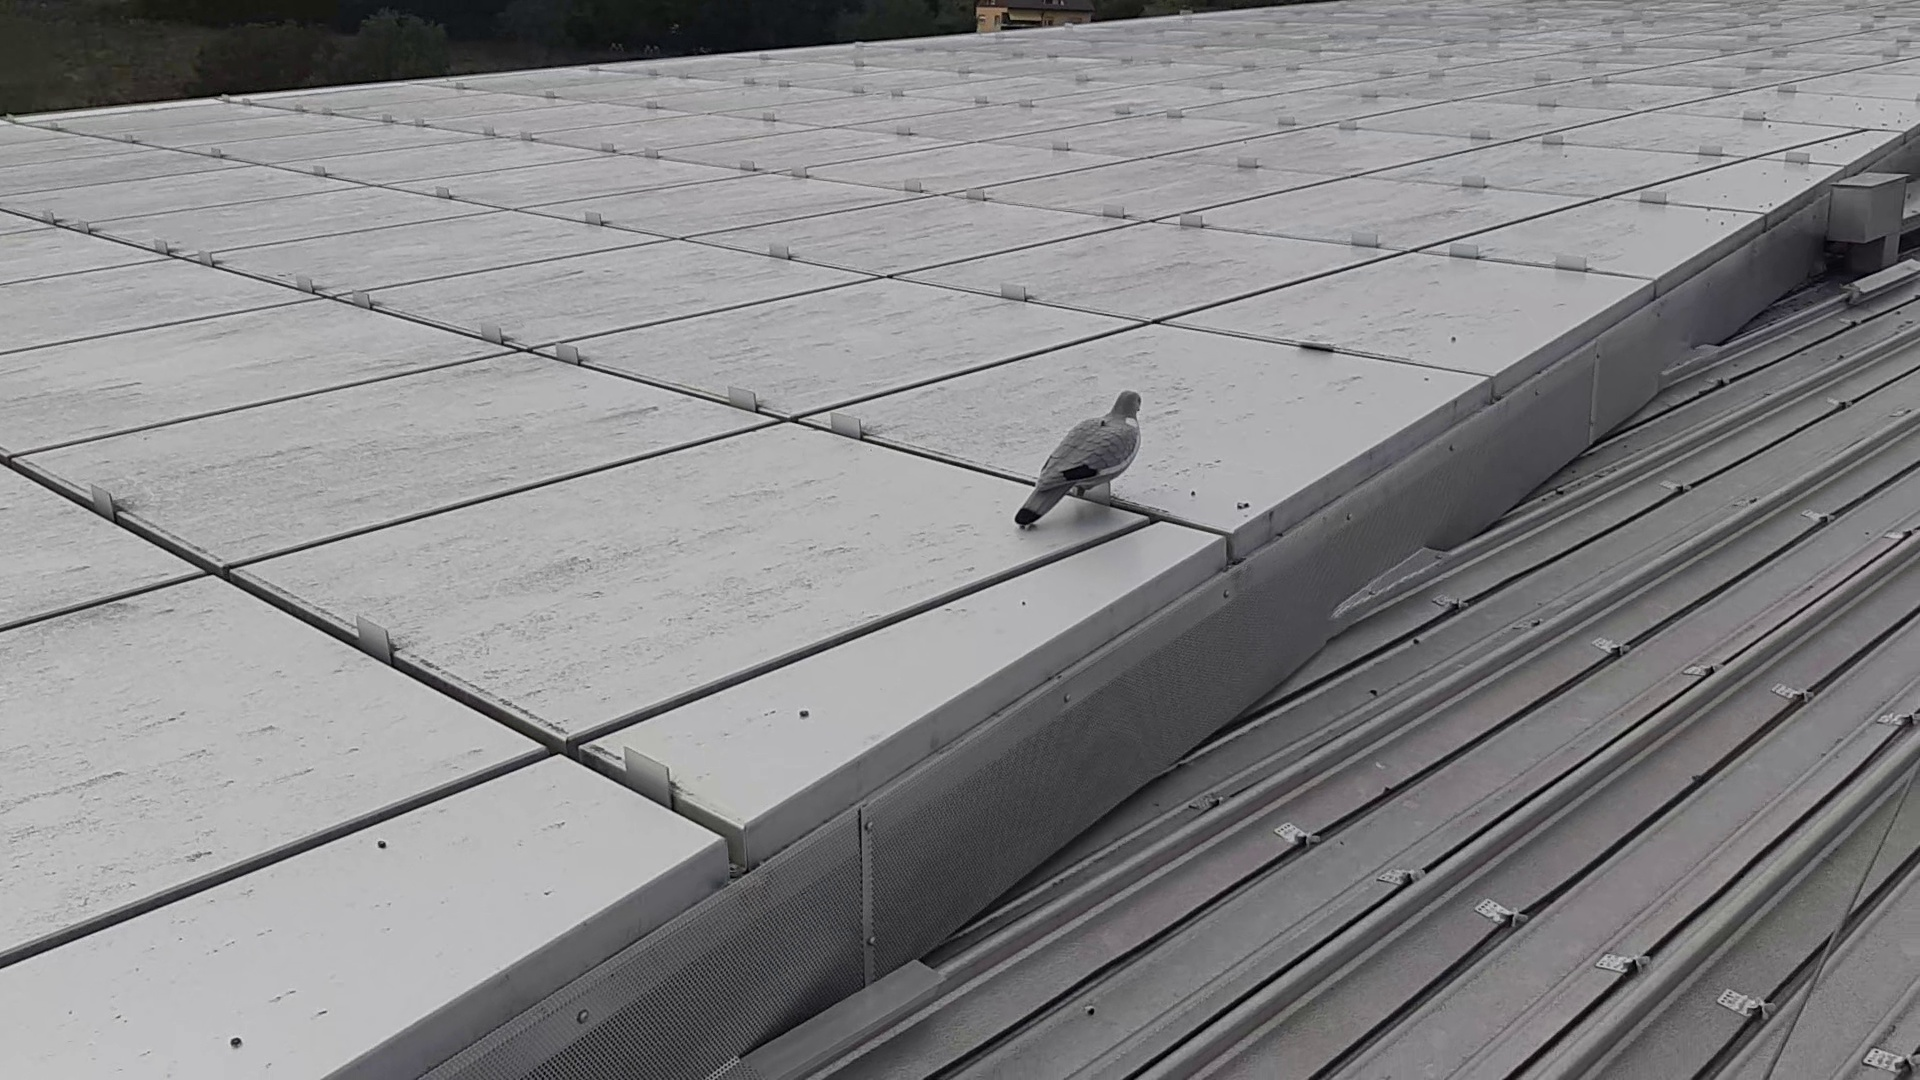Pigeon: (1015, 378, 1149, 537)
